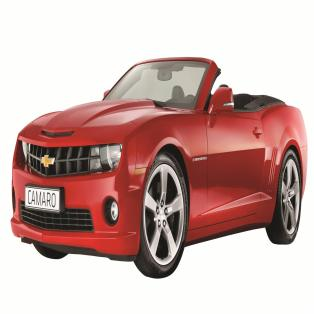Auto: (10, 56, 307, 285)
